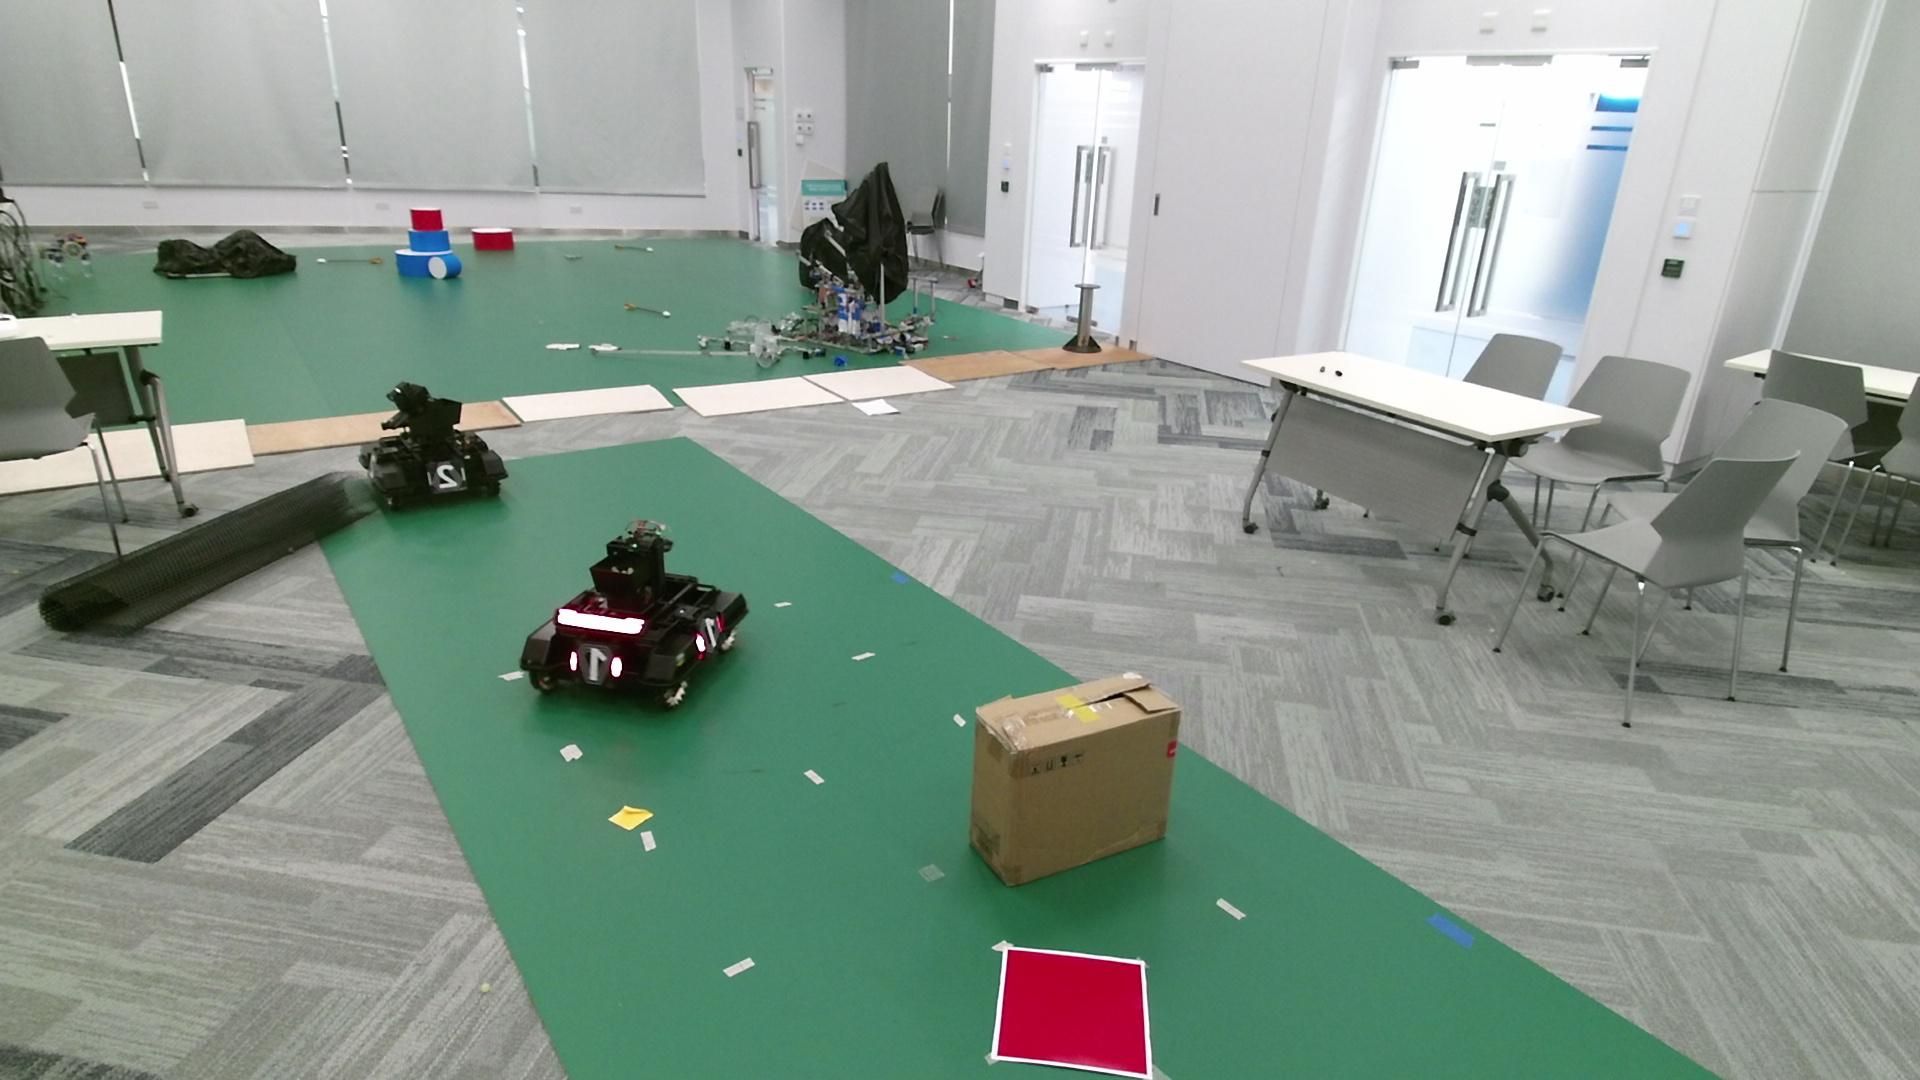robot: (520, 516, 750, 709), (359, 380, 510, 513)
